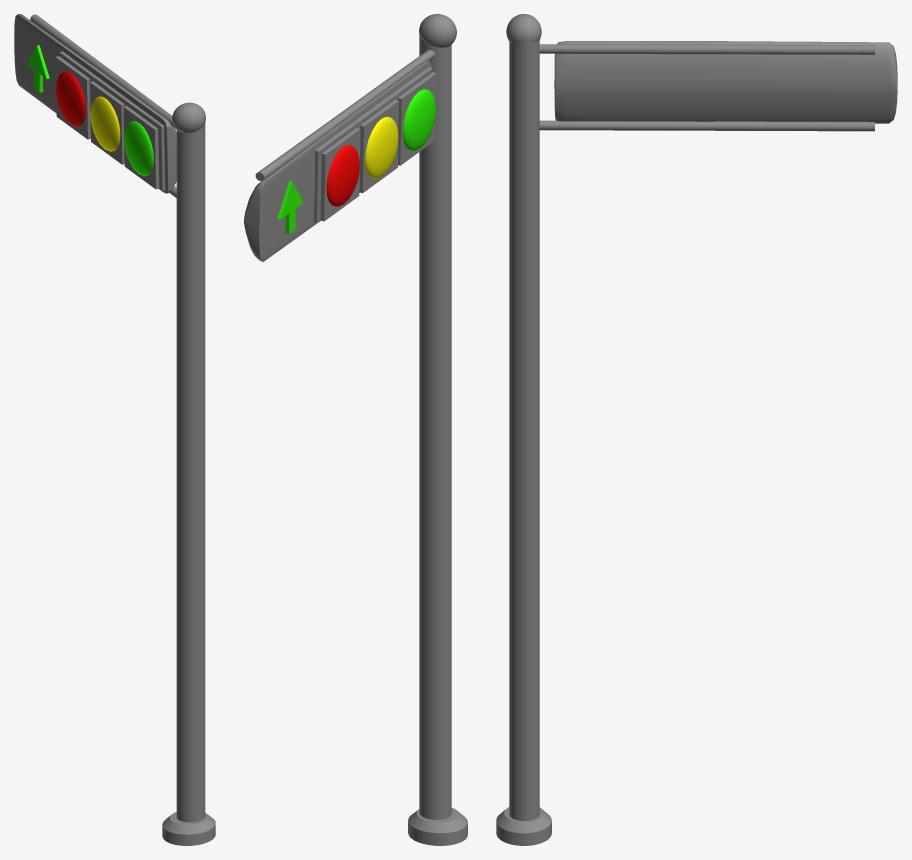
Rendered from dengganhonglvdeng.obj.
3 renders of one model, left to right at view 1: azimuth 30°, elevation 25°; view 2: azimuth 150°, elevation 25°; view 3: azimuth 270°, elevation 25°, orthographic. The views are drawn at different scales.
Visible parts, largest first — view 1: pCylinder0; view 2: pCylinder0; view 3: pCylinder0.
Part boxes in pixels (x1,y1,x2,y2): pCylinder0: (14,14,215,845); pCylinder0: (244,14,467,845); pCylinder0: (496,14,897,845).
Bounding box in the file's own units: 396 × 5865 × 2612.
